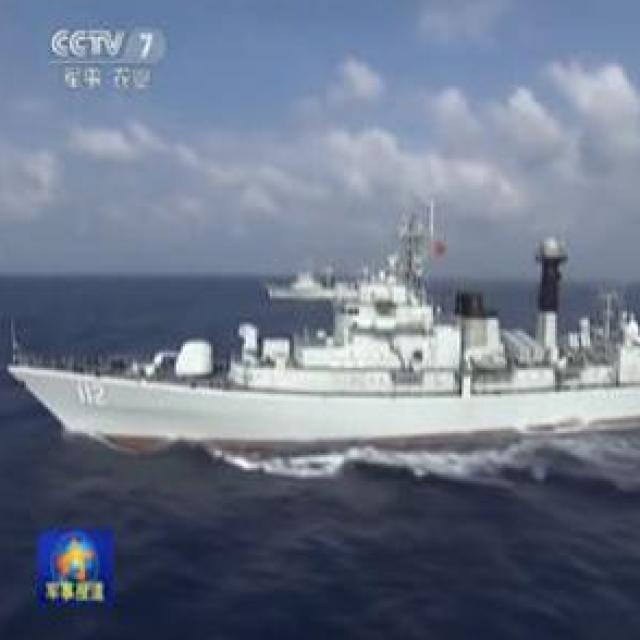navalvessels: (13, 200, 640, 464)
